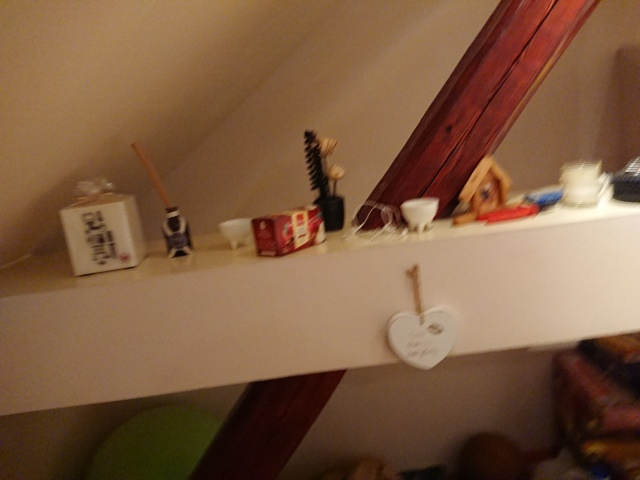Franck Apple Cinnamon Tea 60g: (247, 201, 329, 260)
